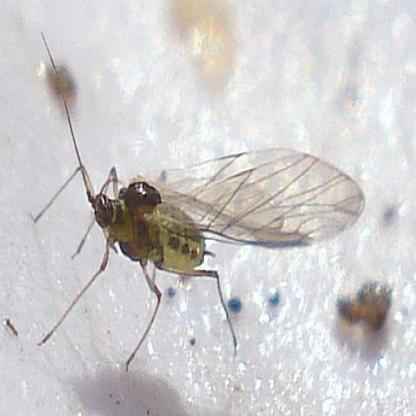aphid: (38, 38, 366, 375)
